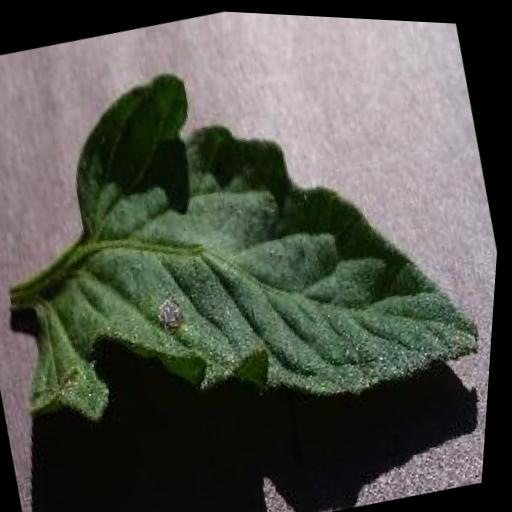Early Blight: (0, 3, 508, 471)
